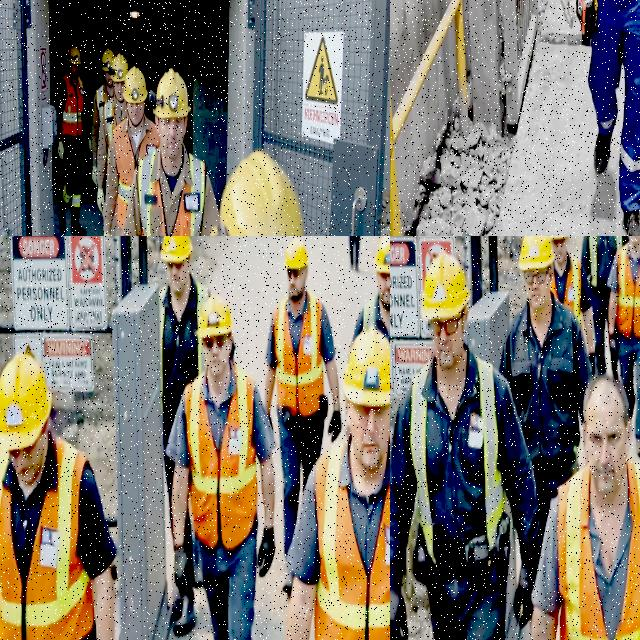Vest: (0, 438, 93, 639), (315, 444, 389, 639), (184, 365, 257, 549), (557, 467, 608, 639), (274, 293, 323, 416), (113, 122, 159, 230), (410, 364, 434, 562), (138, 153, 168, 235), (617, 245, 639, 338), (63, 74, 83, 136), (564, 257, 582, 324), (104, 99, 120, 161), (589, 236, 597, 286), (96, 85, 107, 120)
Worker: (390, 253, 538, 639), (167, 294, 275, 639), (0, 353, 116, 639), (286, 328, 389, 639), (531, 375, 639, 639), (500, 236, 591, 547), (264, 238, 341, 557), (122, 70, 218, 235), (159, 236, 209, 527), (588, 0, 639, 235), (103, 68, 159, 235), (212, 151, 303, 235), (608, 236, 639, 451), (56, 46, 91, 235), (581, 236, 628, 373), (551, 236, 594, 373), (97, 55, 128, 212), (352, 236, 389, 342), (92, 48, 114, 186), (348, 236, 360, 272)
helmet: (211, 151, 303, 235), (0, 353, 51, 451), (344, 327, 389, 406), (421, 252, 470, 320), (150, 70, 190, 118), (198, 294, 232, 337), (519, 236, 554, 270), (161, 236, 192, 263), (124, 67, 147, 103), (285, 238, 308, 269), (374, 236, 389, 273), (110, 55, 128, 82), (66, 45, 81, 65), (101, 48, 114, 71), (550, 236, 568, 240)
